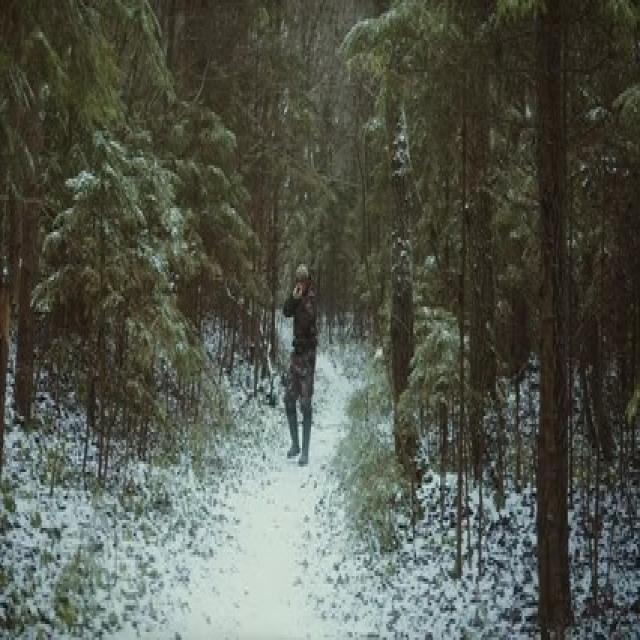Gun_Holder: (290, 276, 304, 302)
Person: (281, 262, 318, 468)
